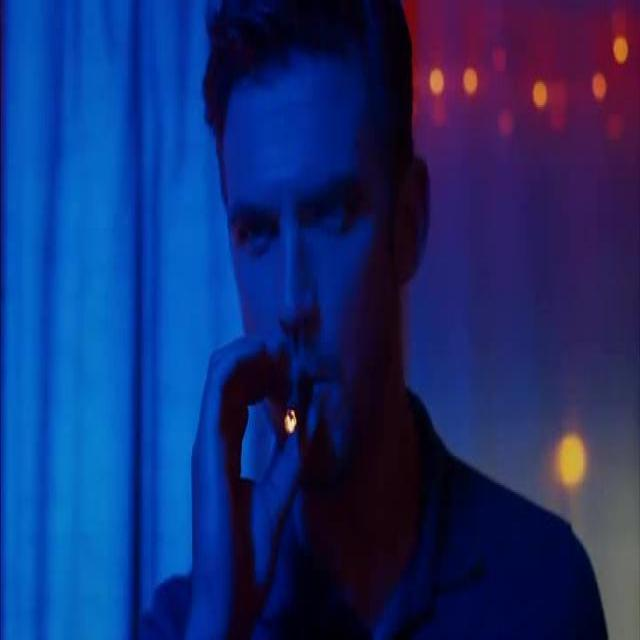Сигарета: (286, 402, 300, 434)
Тело: (187, 3, 607, 640)
